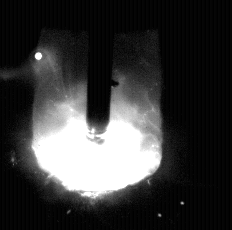arame: (88, 0, 111, 133)
poca: (32, 0, 162, 230)
